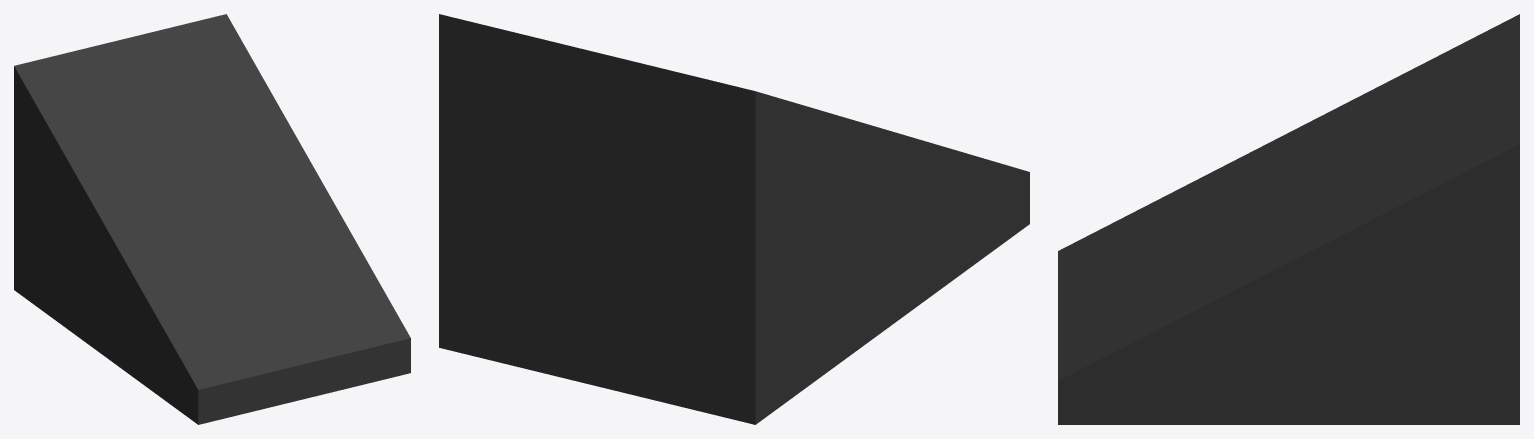
The model's file is Castle_Block_C.FBX.
3 views of the same model, side by side, from view 1: azimuth 30°, elevation 25°; view 2: azimuth 150°, elevation 25°; view 3: azimuth 270°, elevation 25° (orthographic). The views are drawn at different scales.
Visible parts, largest first — view 1: Castle_Block_C; view 2: Castle_Block_C; view 3: Castle_Block_C.
Boxes of the visible parts, bbox=[...] form: Castle_Block_C: bbox=[14, 14, 410, 424]; Castle_Block_C: bbox=[439, 14, 1029, 424]; Castle_Block_C: bbox=[1058, 14, 1519, 424].
Bounding box in the file's own units: 20 × 20.16 × 30.04.
